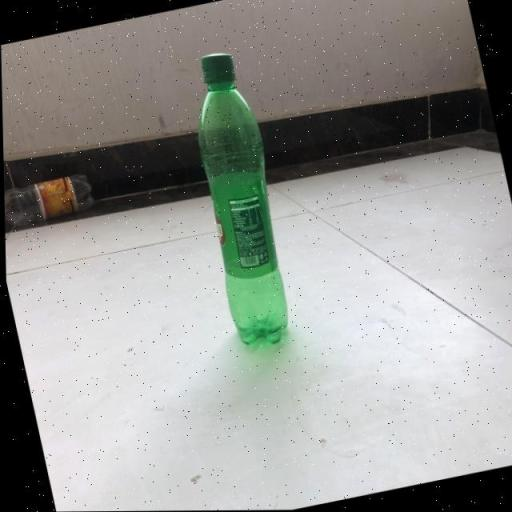plastic: (176, 45, 306, 357), (3, 168, 100, 233)
